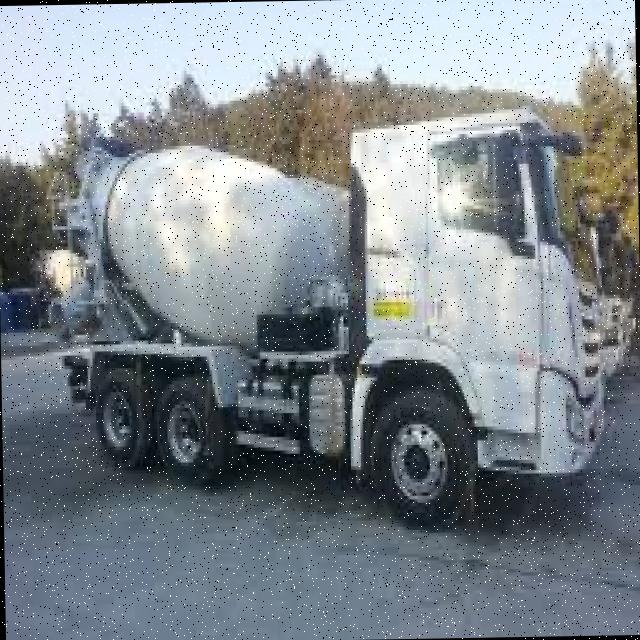Mixer Truck: (41, 102, 610, 537), (270, 158, 626, 390), (32, 238, 110, 334)
